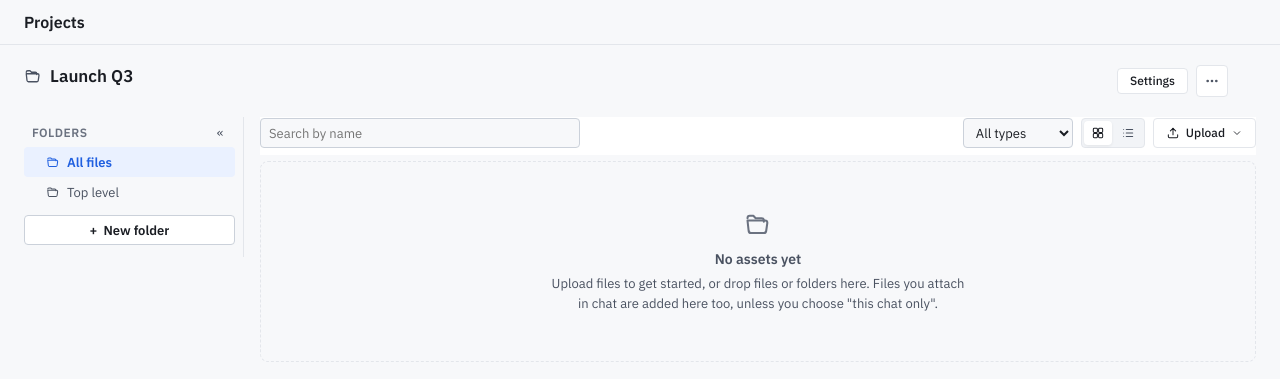
Test: ProjectsSurface overflow menu › Rename edits inline, PATCHes the new name, and re-reads the list
Click the button named "Project actions".
click(1212, 81)  # box [1196, 65, 1228, 97]
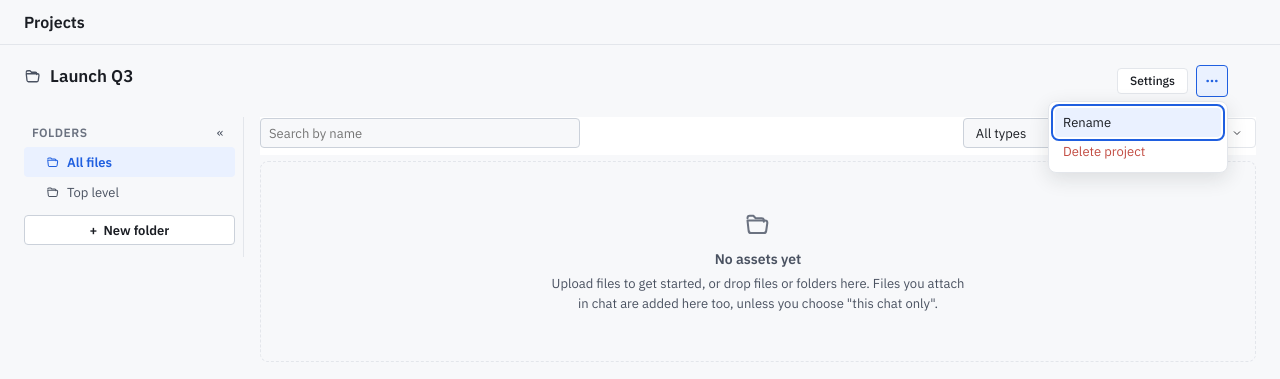
Click the menu item "Rename".
click(1138, 122)  # box [1055, 108, 1221, 137]
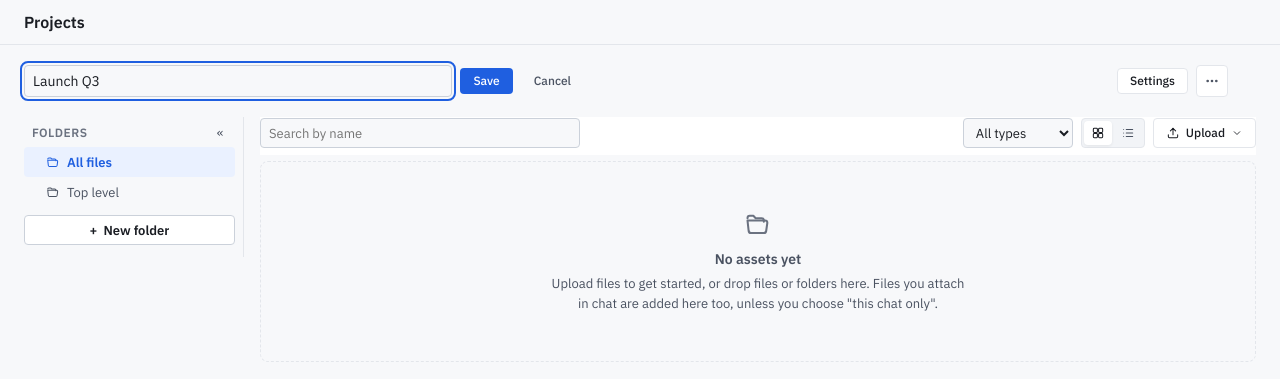
Expected: the field named "Project name" holds "Launch Q3"
Replace the text in the field named "Project name" with "  Launch Q4 " at [238, 81], box [24, 65, 452, 97]
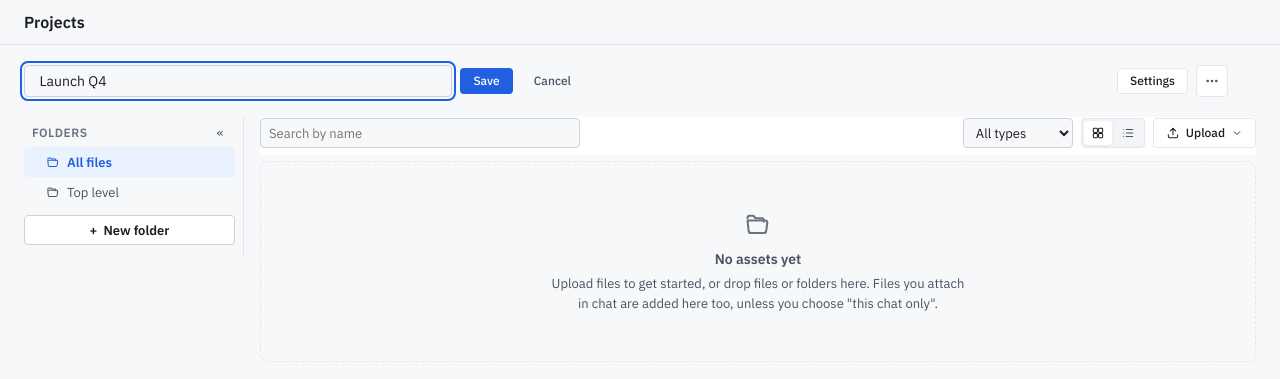
Click the button "Save".
click(487, 81)  # box [460, 68, 513, 94]
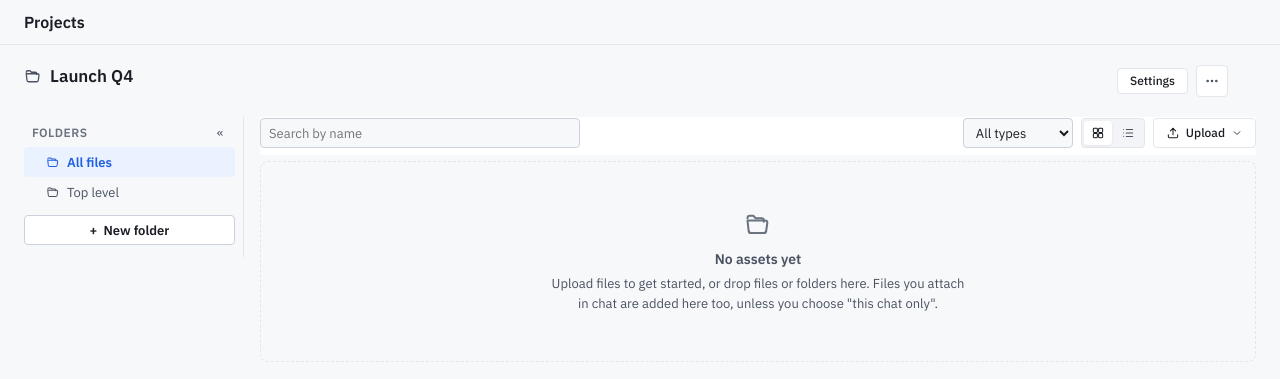
Expected: the heading "Launch Q4" is shown, [50, 65, 133, 87]
